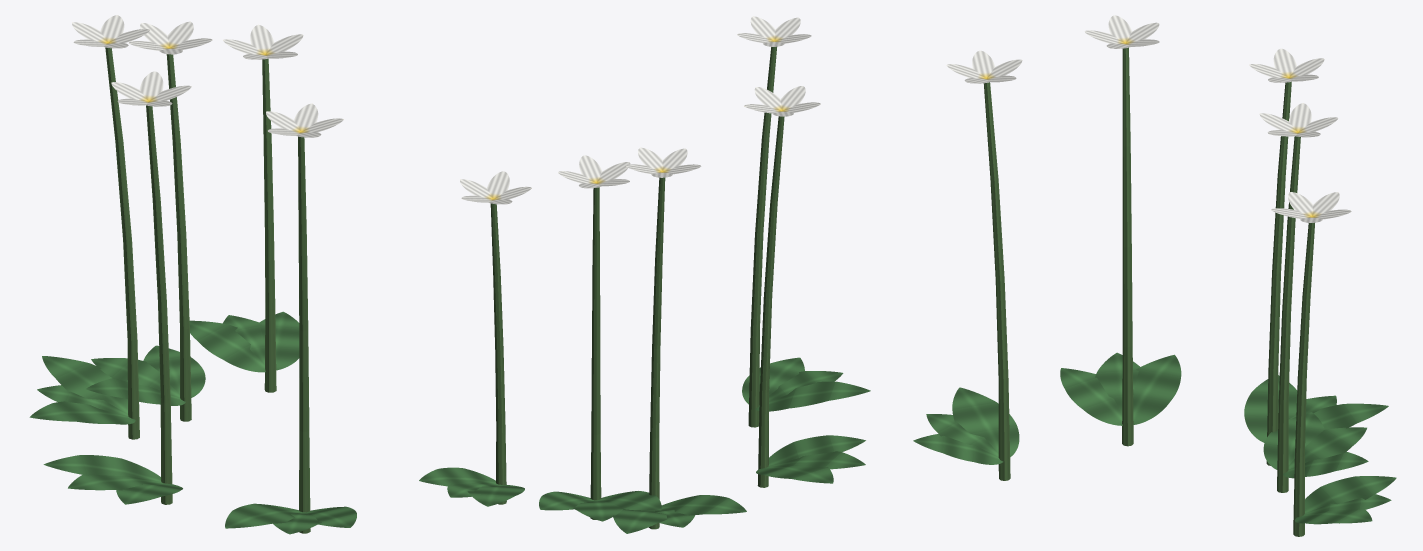
The model's file is forest_anemone_v01.fbx.
The picture shows the model from 3 angles, left to right: view 1: azimuth 30°, elevation 25°; view 2: azimuth 150°, elevation 25°; view 3: azimuth 270°, elevation 25°; orthographic projection. The views are drawn at different scales.
Visible parts, largest first — view 1: forest_anemone_v01; view 2: forest_anemone_v01; view 3: forest_anemone_v01.
Boxes of the visible parts, x1,y1,x2,y2 form: forest_anemone_v01: (29,15,356,534); forest_anemone_v01: (419,16,870,533); forest_anemone_v01: (913,15,1396,536).
Bounding box in the file's own units: 20.34 × 24.41 × 21.76.
3 materials, 3 textured.
